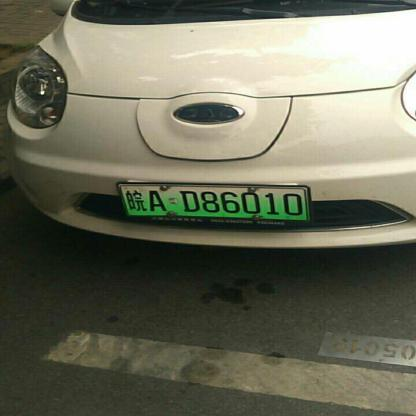lp: (120, 186, 306, 218)
